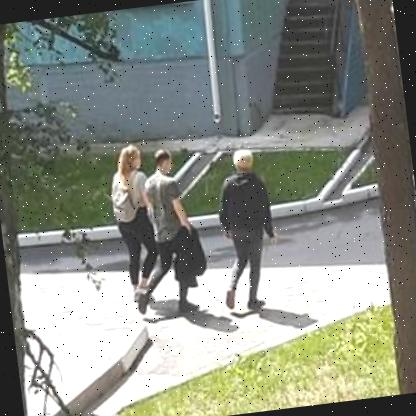person: (199, 137, 290, 316), (135, 143, 214, 332), (98, 134, 172, 308)
